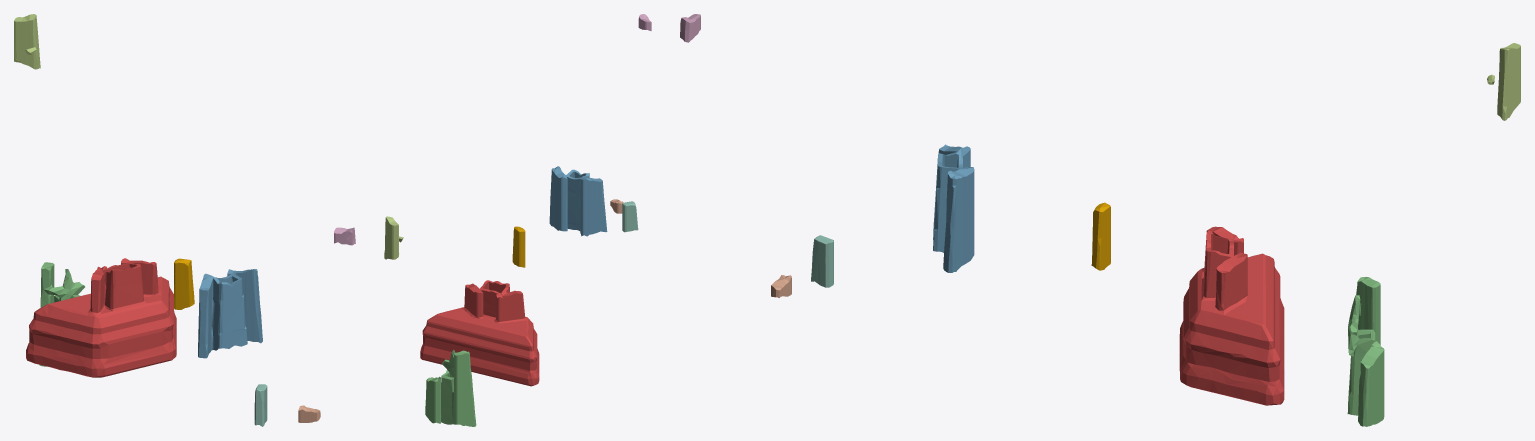
File: fractured_71_8pcs_transformed.glb
3 renders of one model, left to right at view 1: azimuth 30°, elevation 25°; view 2: azimuth 150°, elevation 25°; view 3: azimuth 270°, elevation 25°, orthographic. The views are drawn at different scales.
Parts seen in each view (by area): view 1: piece_1.obj, piece_2.obj, piece_5.obj, piece_3.obj, piece_0.obj, piece_4.obj, piece_6.obj, piece_7.obj; view 2: piece_1.obj, piece_2.obj, piece_3.obj, piece_5.obj, piece_0.obj, piece_4.obj; view 3: piece_1.obj, piece_3.obj, piece_2.obj, piece_5.obj, piece_0.obj, piece_4.obj.
Boxes of the visible parts, x1=… form: piece_1.obj: x1=26, y1=258, x2=176, y2=377; piece_2.obj: x1=198, y1=269, x2=262, y2=358; piece_5.obj: x1=14, y1=14, x2=40, y2=69; piece_3.obj: x1=39, y1=262, x2=84, y2=366; piece_0.obj: x1=174, y1=258, x2=194, y2=309; piece_4.obj: x1=254, y1=384, x2=267, y2=426; piece_6.obj: x1=334, y1=227, x2=355, y2=245; piece_7.obj: x1=298, y1=405, x2=320, y2=422; piece_1.obj: x1=420, y1=280, x2=539, y2=386; piece_2.obj: x1=549, y1=166, x2=607, y2=236; piece_3.obj: x1=425, y1=350, x2=476, y2=426; piece_5.obj: x1=384, y1=216, x2=403, y2=259; piece_0.obj: x1=512, y1=226, x2=525, y2=267; piece_4.obj: x1=622, y1=201, x2=638, y2=232; piece_1.obj: x1=1179, y1=226, x2=1284, y2=405; piece_3.obj: x1=1347, y1=277, x2=1384, y2=426; piece_2.obj: x1=933, y1=144, x2=974, y2=272; piece_5.obj: x1=1487, y1=43, x2=1520, y2=120; piece_0.obj: x1=1091, y1=202, x2=1110, y2=270; piece_4.obj: x1=811, y1=235, x2=833, y2=287.
Size of the model in its own units: 0.4818 by 0.9917 by 1.85.
